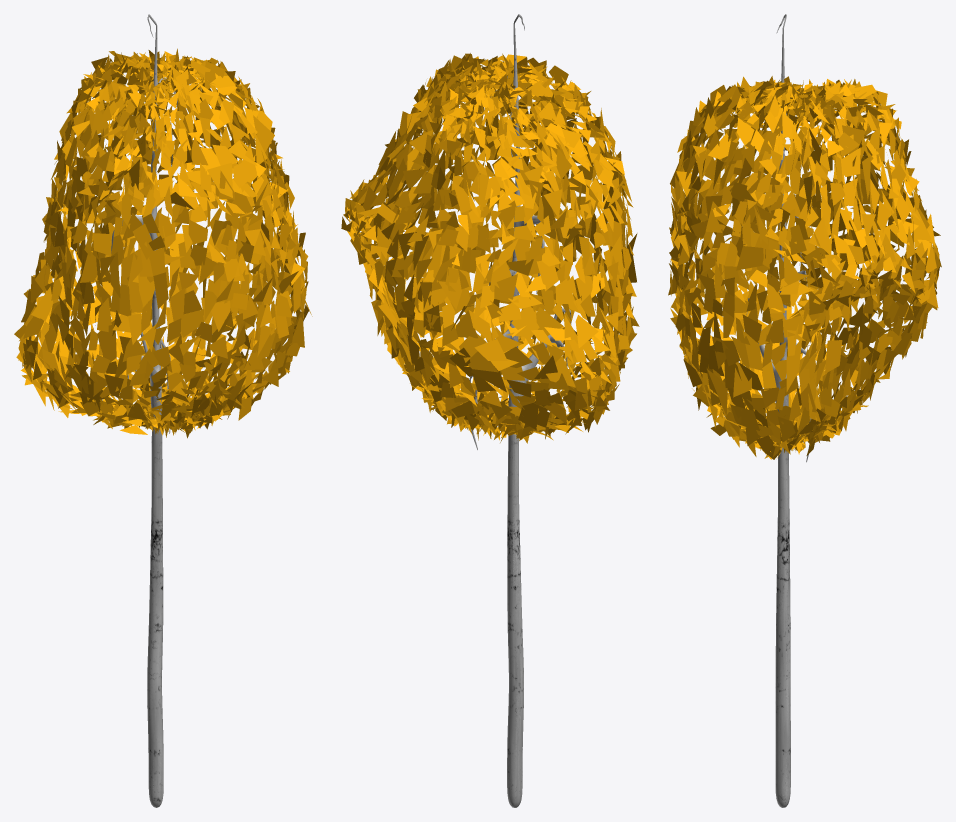
Rendered from Leaves53.001.fbx.
3 views of the same model, side by side, from view 1: azimuth 30°, elevation 25°; view 2: azimuth 150°, elevation 25°; view 3: azimuth 270°, elevation 25° (orthographic).
Visible parts, largest first — view 1: Leaves53.001; view 2: Leaves53.001; view 3: Leaves53.001.
Part boxes in pixels (left/top/right/bottom): Leaves53.001: left=14, top=14, right=312, bottom=807; Leaves53.001: left=341, top=14, right=639, bottom=807; Leaves53.001: left=668, top=14, right=941, bottom=807.
Size of the model in its own units: 903 by 2612 by 820.
2 materials, 1 textured.
